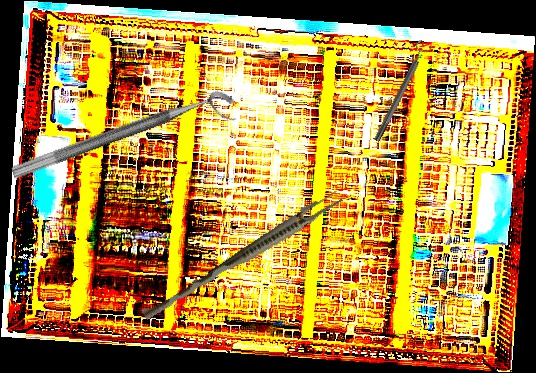Fixation Ring: (10, 86, 241, 198), (368, 38, 434, 145)
Tissue Forceps: (140, 185, 345, 328)
